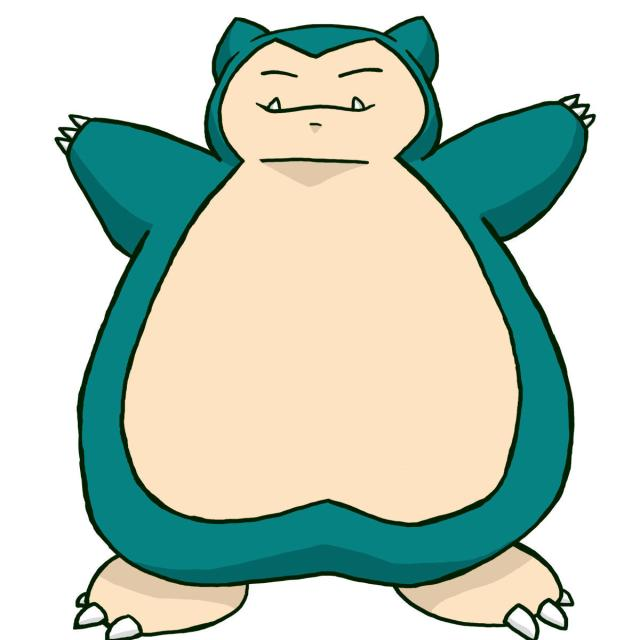Snorlax: (50, 4, 593, 640)
